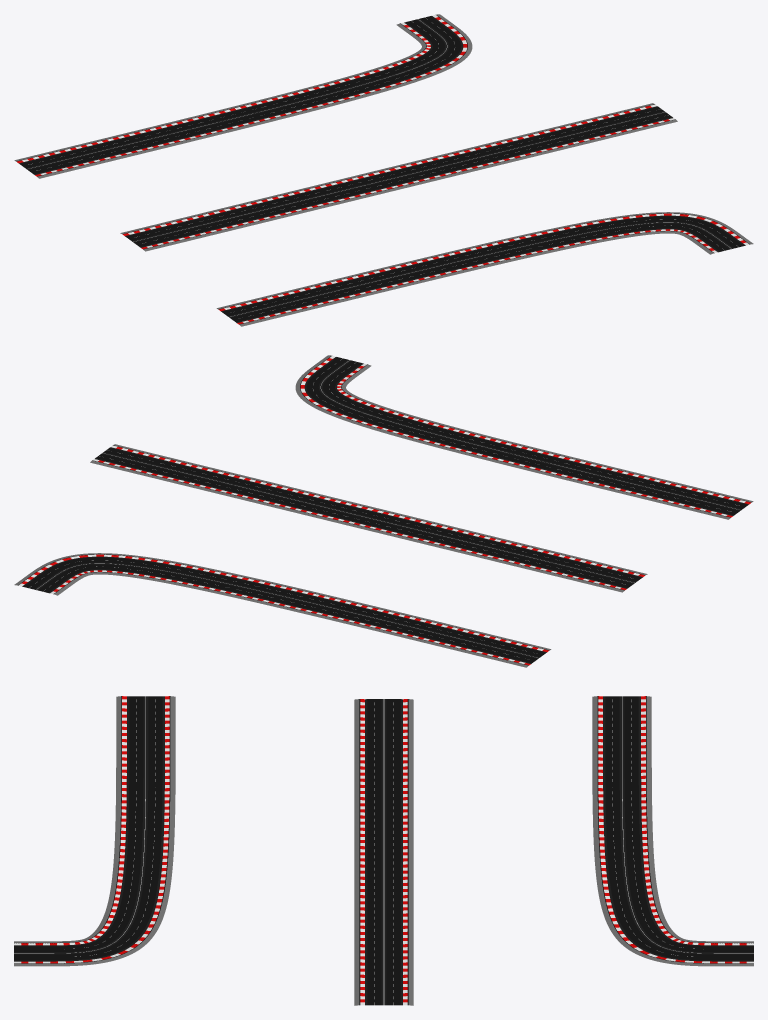
3 renders of one model, top to bottom at view 1: azimuth 30°, elevation 25°; view 2: azimuth 150°, elevation 25°; view 3: azimuth 270°, elevation 25°, orthographic. The views are drawn at different scales.
Visible parts, largest first — view 1: Grid.001, Grid.002, Grid; view 2: Grid.001, Grid, Grid.002; view 3: Grid.001, Grid, Grid.002.
Part boxes in pixels (x1,y1,x2,y2): Grid.001: (120,103,677,251); Grid.002: (14,14,472,178); Grid: (216,212,753,326); Grid.001: (90,444,647,592); Grid: (295,355,753,519); Grid.002: (14,553,551,667); Grid.001: (354,699,413,1005); Grid: (14,696,175,966); Grid.002: (592,696,753,966).
Size of the model in its own units: 307 by 0.31 by 311.
